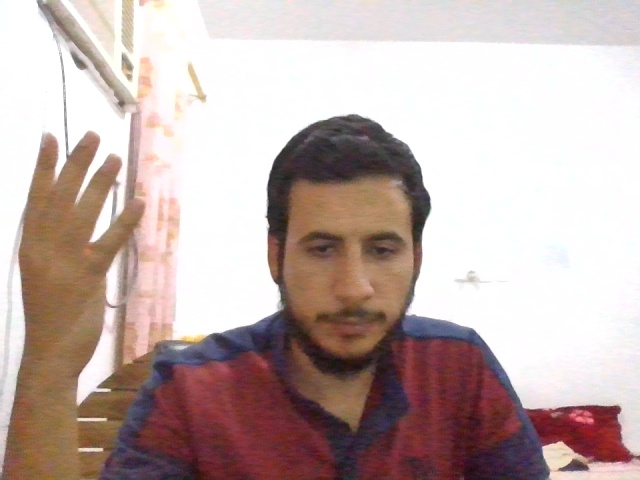Four: (19, 132, 146, 363)
